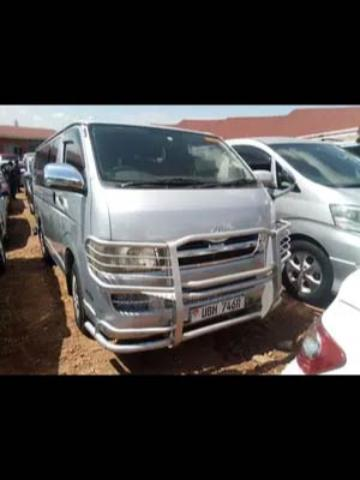van: (32, 119, 289, 351)
